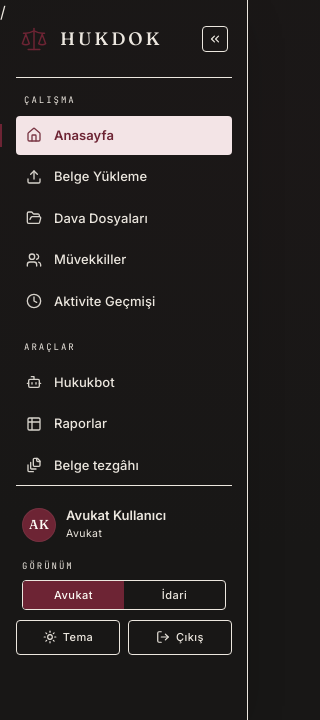
Test: Sidebar Hukukbot öğesi › Belge tezgâhı öğesi yönetici olmayan kullanıcıda görünür ve /belge-tezgahi'ye gider
Click the button "Belge tezgâhı" at [124, 465], box [16,446,232,485]
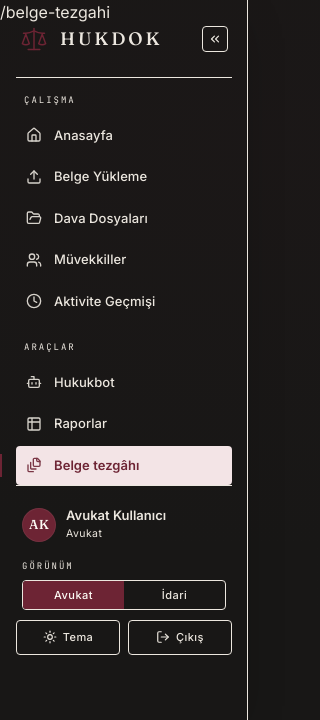
Check: the text with test id "konum" reads "/belge-tezgahi", box [0,2,110,22]
